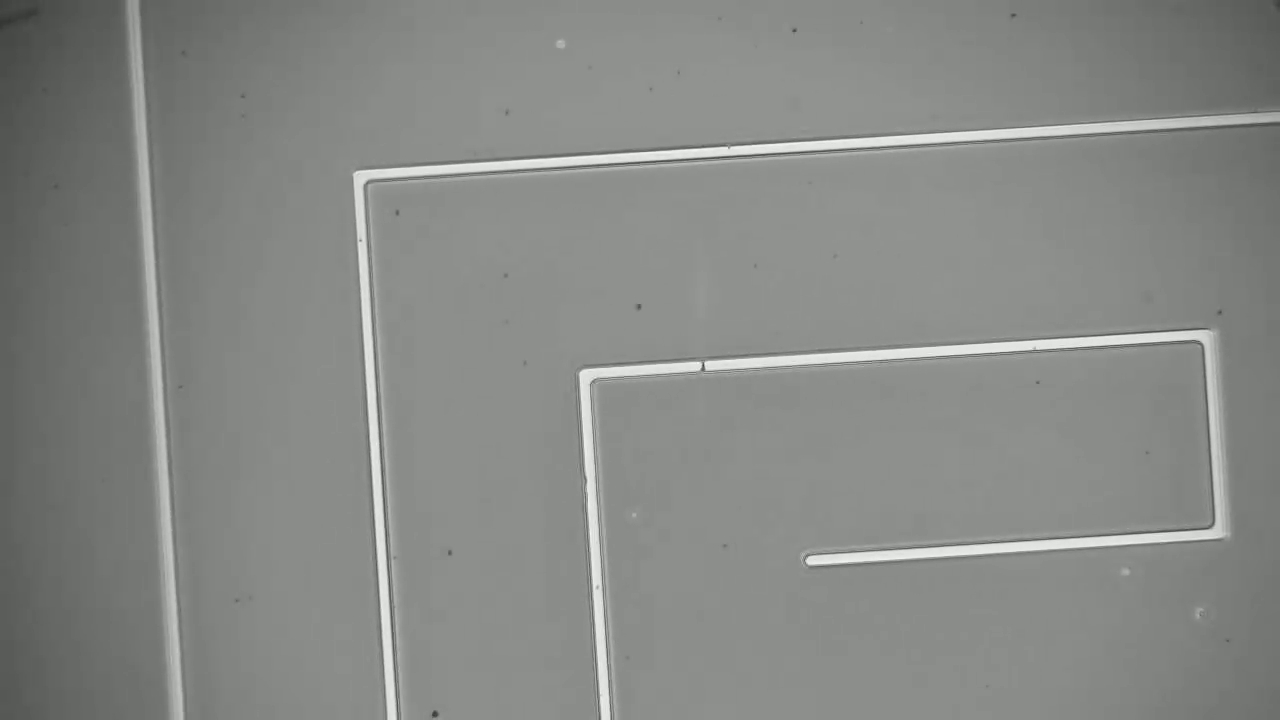stains_enbedded: (695, 355, 711, 380)
